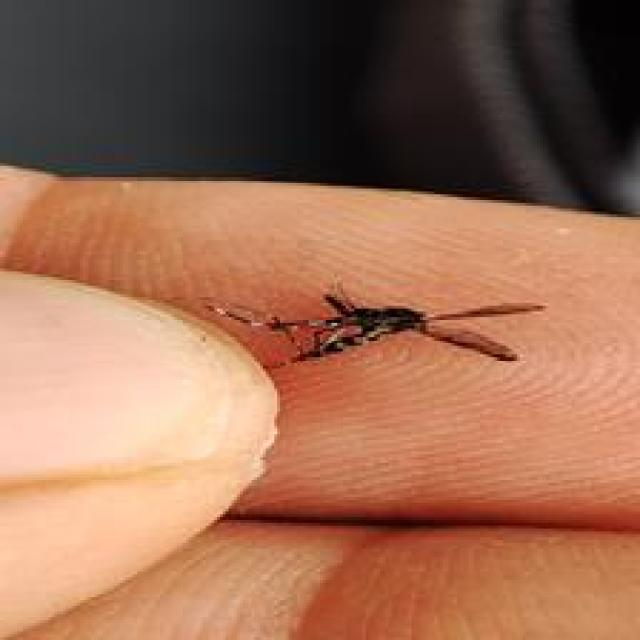Aedes albopictus: (204, 283, 547, 371)
